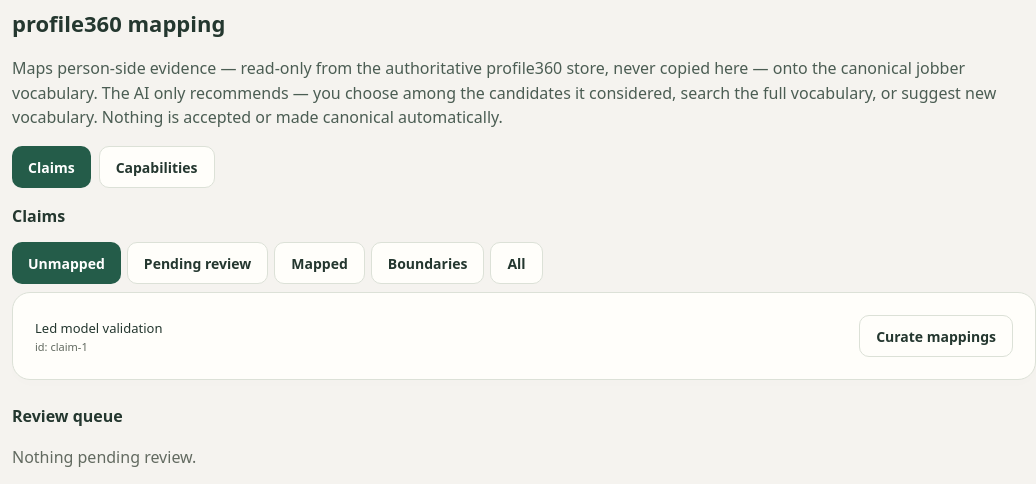
Test: requests only unmapped rows from the backend
Check: the text "Led model validation" is shown, box [35,318,162,338]
Click the button "Capabilities" at [157, 167], box [99,146,215,188]
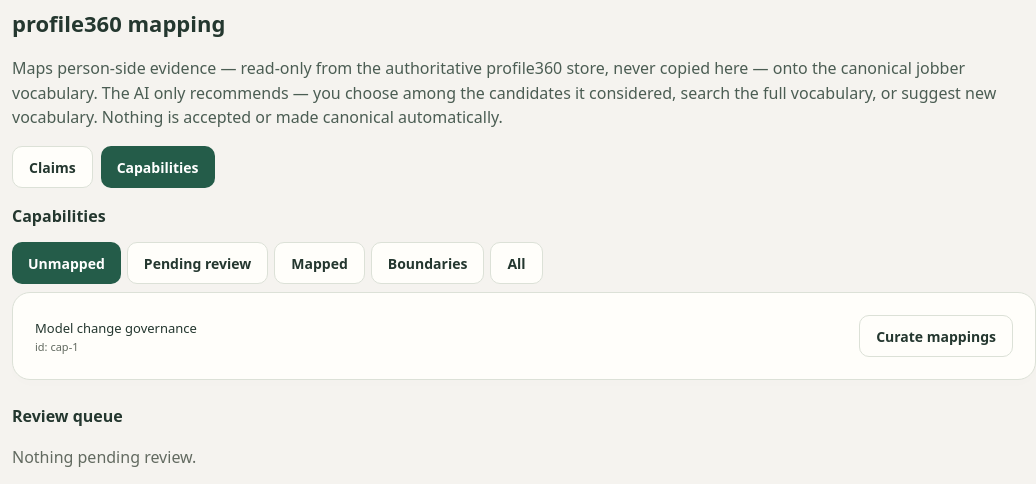
Check: the text "Model change governance" is shown, box [35,318,197,338]
